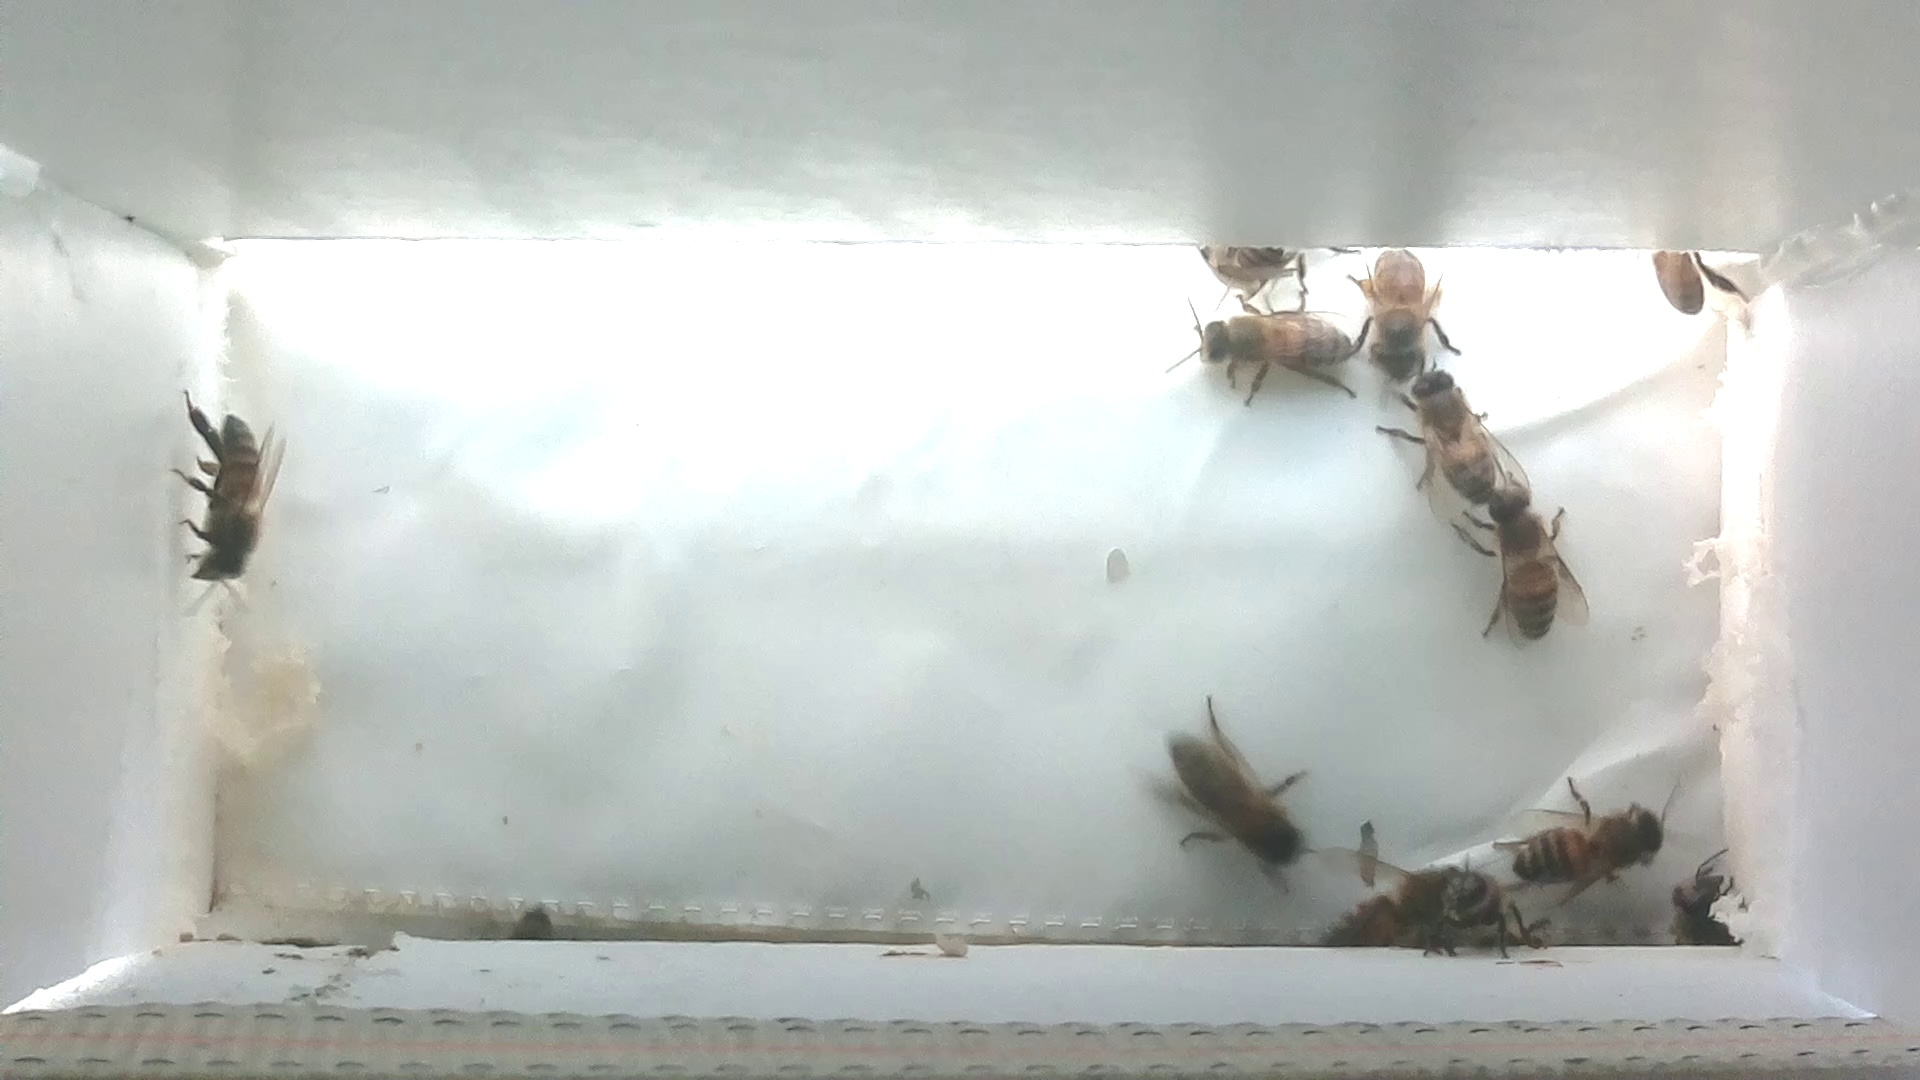bee: (1135, 691, 1324, 890), (160, 382, 295, 620), (1159, 290, 1370, 411), (1487, 774, 1688, 899), (1453, 476, 1588, 650), (1379, 357, 1523, 518), (1328, 851, 1514, 964), (1353, 237, 1465, 401), (1193, 225, 1331, 310), (1643, 245, 1753, 336), (1644, 851, 1735, 956)
